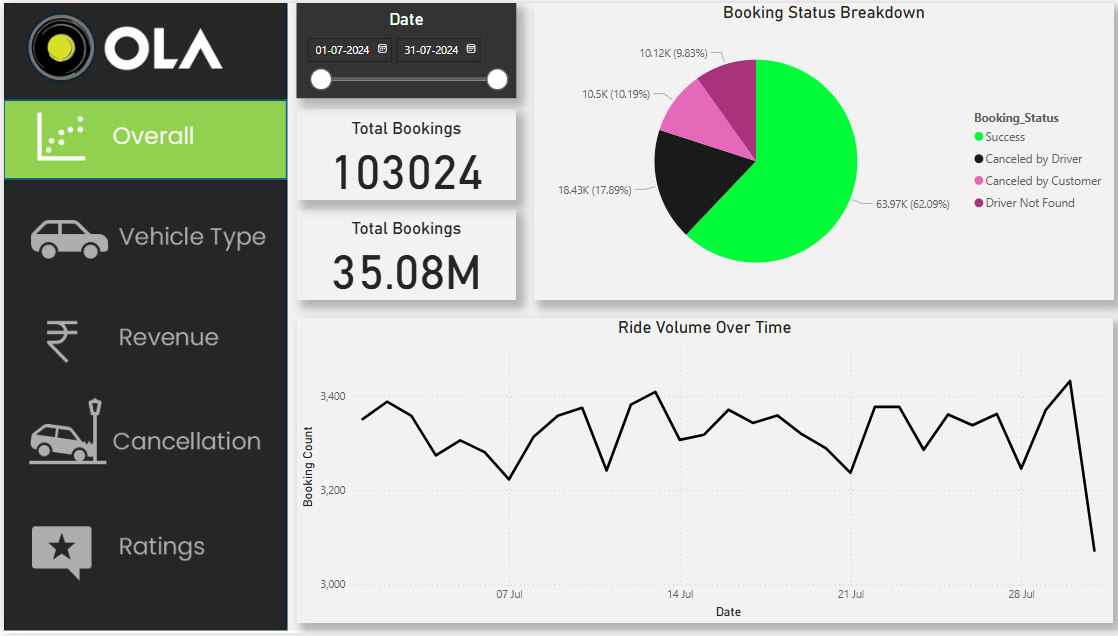

The page's visual inventory and layout, read from the dashboard file:
{"tool":"powerbi","page":{"name":"Overall","canvas":[1280,720],"ordinal":0},"visuals":[{"type":"actionButton","box":[0,225.2,323.2,90.8],"z":0},{"type":"actionButton","box":[1.2,340.1,323.2,90.8],"z":1000},{"type":"actionButton","box":[0,458.8,323.2,90.8],"z":2000},{"type":"actionButton","box":[1.2,578.6,323.2,90.8],"z":3000},{"type":"lineChart","title":"Ride Volume Over Time","fields":{"Y":["CountNonNull(Bookings.Booking_ID)"],"Category":["Bookings.Date"]},"box":[334.8,359.5,933.1,348.5],"z":4000},{"type":"pieChart","title":"Booking Status Breakdown","fields":{"Category":["Bookings.Booking_Status"],"Y":["CountNonNull(Bookings.Booking_ID)"]},"box":[605.1,0,662.8,340.3],"z":5000},{"type":"slicer","title":"Date","fields":{"Values":["Bookings.Date"]},"box":[334.8,0,251.1,108.4],"z":6000},{"type":"card","title":"Total Bookings","fields":{"Values":["CountNonNull(Bookings.Booking_ID)"]},"box":[334.8,120.8,251.1,104.3],"z":7000},{"type":"card","title":"Total Bookings","fields":{"Values":["Sum(Bookings.Booking_Value)"]},"box":[334.8,236,251.1,104.3],"z":8000}]}

Visuals, with their boxes in screenshot pixels (x1, y1, x2, y2), scaled from the page's 1280x720 canvas onto the 1118x636 screenshot:
actionButton: (x1=0, y1=199, x2=282, y2=279)
actionButton: (x1=1, y1=300, x2=283, y2=381)
actionButton: (x1=0, y1=405, x2=282, y2=485)
actionButton: (x1=1, y1=511, x2=283, y2=591)
"Ride Volume Over Time" lineChart: (x1=292, y1=318, x2=1107, y2=625)
"Booking Status Breakdown" pieChart: (x1=529, y1=0, x2=1107, y2=301)
"Date" slicer: (x1=292, y1=0, x2=512, y2=96)
"Total Bookings" card: (x1=292, y1=107, x2=512, y2=199)
"Total Bookings" card: (x1=292, y1=208, x2=512, y2=301)
